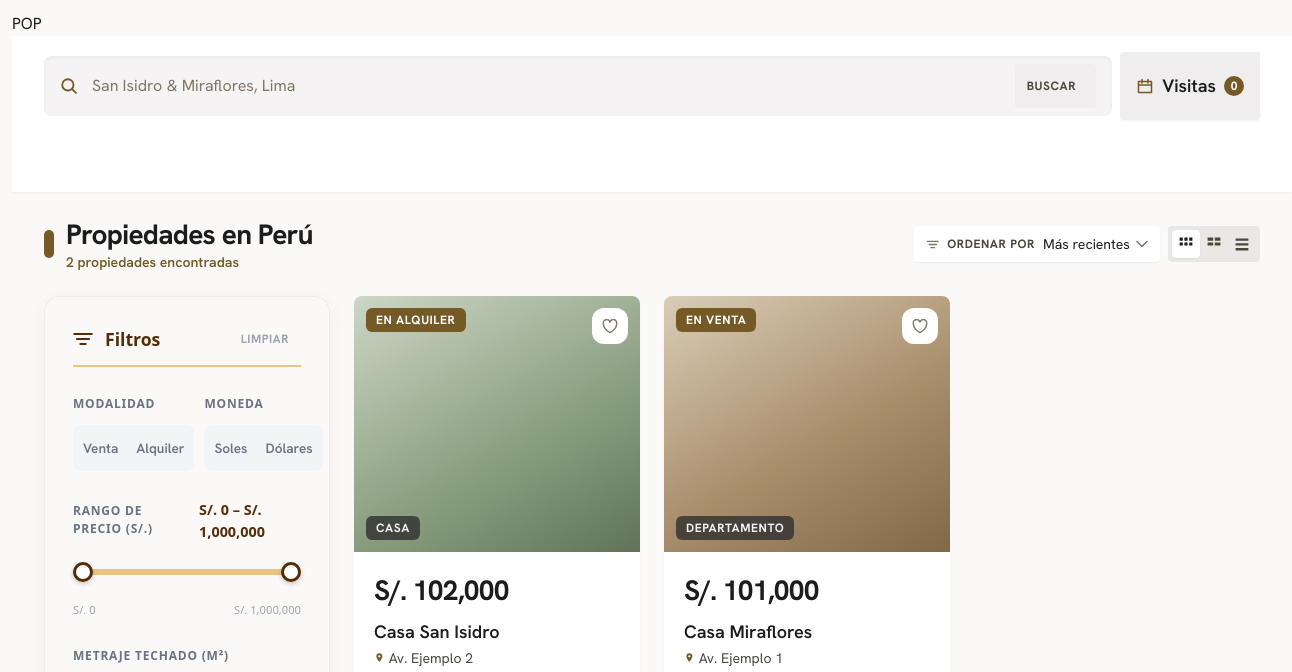
it: PropertyList (integración del catálogo) › Búsqueda con debounce › publica una sola vez el texto final al dejar de escribir 300 ms
The image size is (1292, 672).
Expected: the text "2 propiedades encontradas" is shown, x1=66 y1=253 x2=239 y2=271
In the search field named "Buscar propiedades": [546, 86] box x1=90 y1=73 x2=1003 y2=99, type "miraflores"
Wait 300 ms
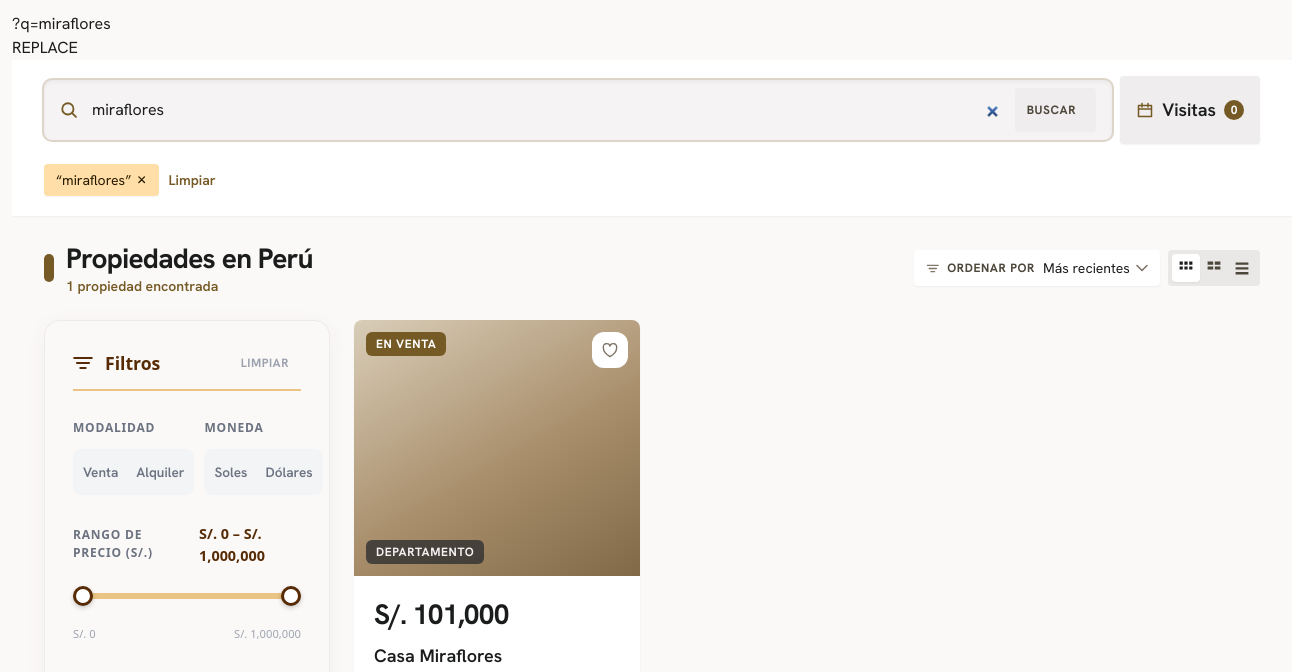
Expected: the text with test id "search" reads "?q=miraflores", x1=12 y1=13 x2=111 y2=34
Expected: the text "1 propiedad encontrada" is shown, x1=66 y1=277 x2=218 y2=295
Expected: the button named "Quitar filtro “miraflores”" is shown, x1=137 y1=175 x2=147 y2=185
